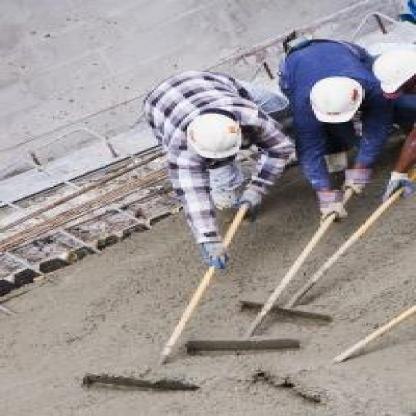helmet: (306, 68, 370, 128), (188, 107, 244, 165)
